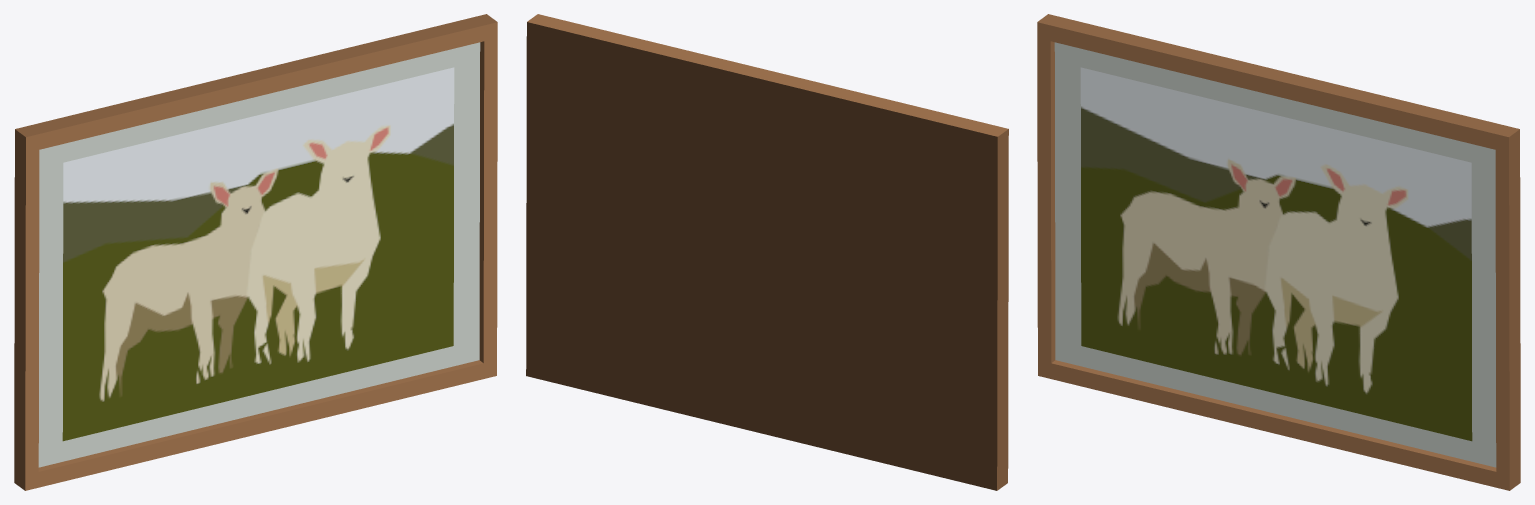
File: SM_Prop_FarmPhoto_01.obj
The picture shows the model from 3 angles, left to right: view 1: azimuth 30°, elevation 25°; view 2: azimuth 150°, elevation 25°; view 3: azimuth 330°, elevation 25°; orthographic projection.
Parts seen in each view (by area): view 1: SM_Prop_FarmPhoto_01_Mat_SwatchOverlay_Farm_Main_01_Inst; view 2: SM_Prop_FarmPhoto_01_Mat_SwatchOverlay_Farm_Main_01_Inst; view 3: SM_Prop_FarmPhoto_01_Mat_SwatchOverlay_Farm_Main_01_Inst.
Part boxes in pixels (x1,y1,x2,y2): SM_Prop_FarmPhoto_01_Mat_SwatchOverlay_Farm_Main_01_Inst: (14,14,497,490); SM_Prop_FarmPhoto_01_Mat_SwatchOverlay_Farm_Main_01_Inst: (526,14,1008,490); SM_Prop_FarmPhoto_01_Mat_SwatchOverlay_Farm_Main_01_Inst: (1037,14,1520,490).
Bounding box in the file's own units: 0.6882 × 0.4939 × 0.0297.
Materials: 1 (1 with a texture image).
